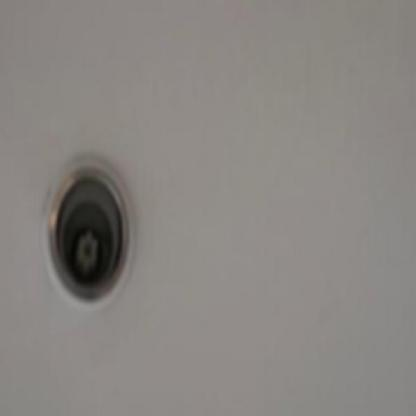light_off: (30, 115, 142, 318)
